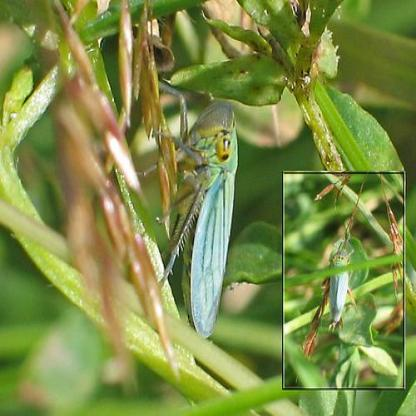Green-Leafhopper: (147, 70, 240, 344), (324, 244, 354, 333)
